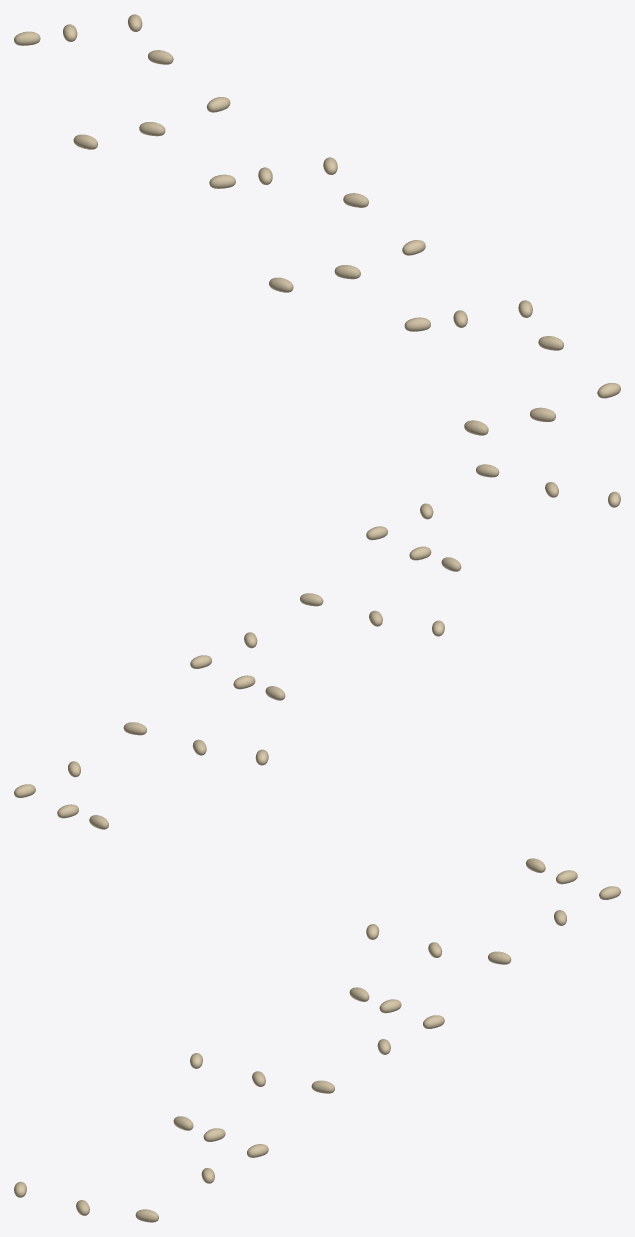
Rendered from Mitokondria.glb.
3 views of the same model, one above another, from view 1: azimuth 30°, elevation 25°; view 2: azimuth 150°, elevation 25°; view 3: azimuth 330°, elevation 25° (orthographic). The views are drawn at different scales.
Size of the model in its own units: 1.4 by 0.1547 by 7.34.
